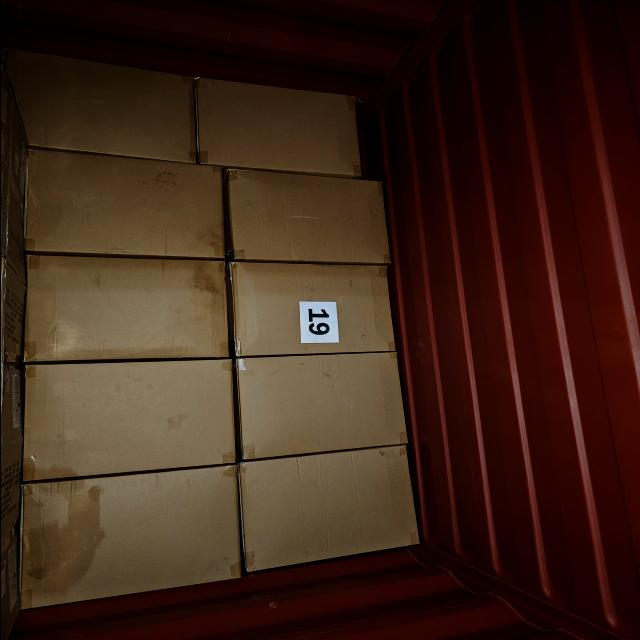Carton: (12, 472, 250, 600), (15, 363, 234, 475), (17, 258, 228, 362), (0, 55, 199, 164), (18, 148, 220, 254), (238, 450, 424, 560), (238, 360, 410, 454), (190, 81, 358, 176), (228, 260, 392, 354), (218, 171, 384, 261)
